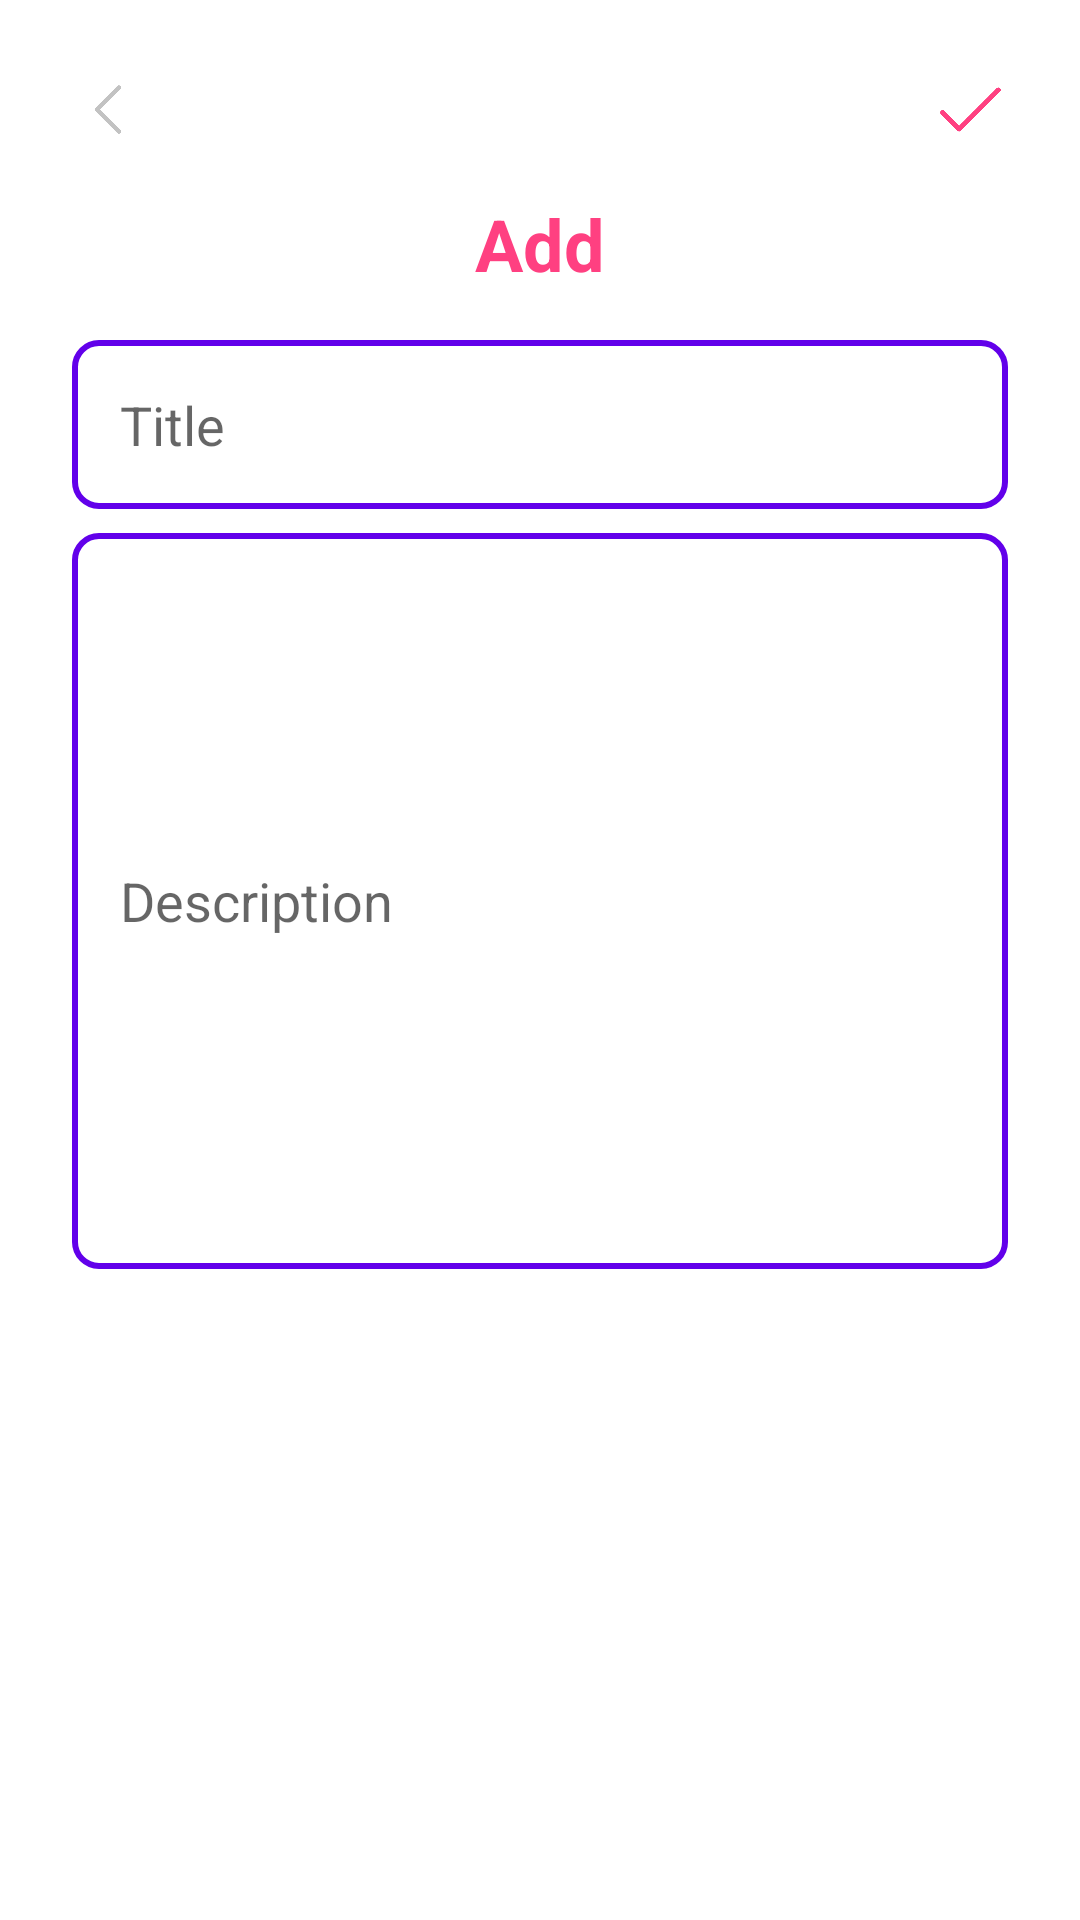

Named icons in this screenshot (1080px x 1920px) and their bounding boxes, (x1, y1, x2, y2):
check: (940, 87, 1001, 132)
return: (95, 85, 121, 134)
